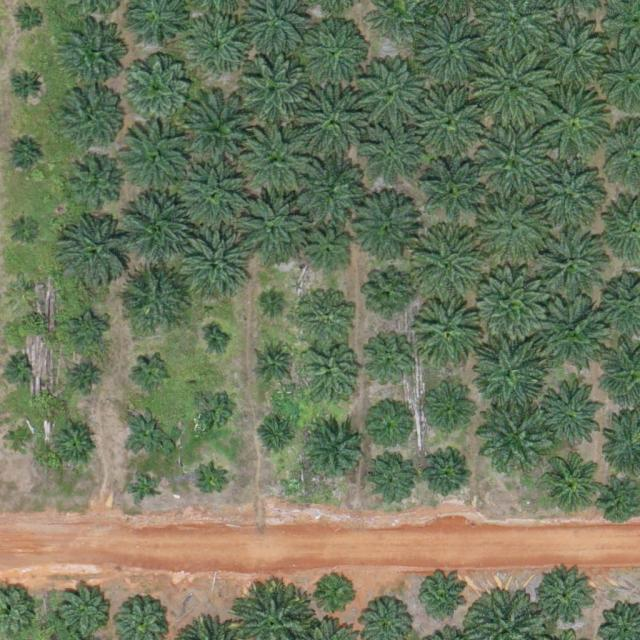Healthy: (183, 92, 261, 171), (56, 214, 134, 293), (474, 47, 552, 125), (535, 155, 606, 226), (479, 400, 550, 471), (410, 295, 481, 366), (179, 160, 250, 231), (534, 229, 604, 300), (539, 294, 609, 365), (537, 385, 607, 456), (476, 266, 546, 337), (350, 195, 420, 266), (290, 151, 360, 222), (236, 189, 306, 260), (123, 126, 193, 197), (359, 58, 430, 128), (240, 56, 310, 127), (122, 54, 192, 125), (57, 23, 127, 94), (542, 90, 612, 160), (479, 124, 549, 194), (477, 192, 547, 262), (474, 338, 544, 408), (412, 227, 482, 297), (299, 88, 369, 158), (243, 125, 313, 195), (178, 228, 248, 298), (124, 192, 194, 262), (118, 264, 188, 334), (542, 19, 612, 89), (416, 15, 486, 85), (415, 85, 485, 155), (535, 567, 598, 630), (421, 163, 483, 226), (302, 420, 364, 483), (304, 24, 366, 87), (189, 15, 251, 78), (61, 84, 123, 147), (542, 456, 597, 511), (364, 129, 419, 184), (299, 289, 354, 344), (304, 348, 359, 403), (68, 158, 123, 213), (420, 381, 474, 436), (58, 586, 112, 640), (425, 453, 472, 501), (367, 342, 414, 390), (369, 456, 416, 504), (302, 228, 349, 276)
Small: (415, 572, 470, 627), (366, 270, 413, 318), (52, 421, 99, 468), (124, 410, 171, 457), (257, 419, 297, 459), (7, 67, 47, 107), (367, 408, 407, 447), (318, 573, 357, 613), (6, 137, 45, 177), (69, 312, 108, 351), (134, 355, 173, 394), (192, 391, 231, 430), (601, 481, 640, 520), (196, 467, 227, 499), (73, 361, 104, 393), (129, 473, 160, 505), (10, 211, 41, 243), (9, 271, 40, 303), (3, 352, 34, 384), (260, 348, 291, 379), (5, 425, 36, 456), (15, 5, 46, 36), (264, 292, 288, 316), (205, 330, 228, 354)
